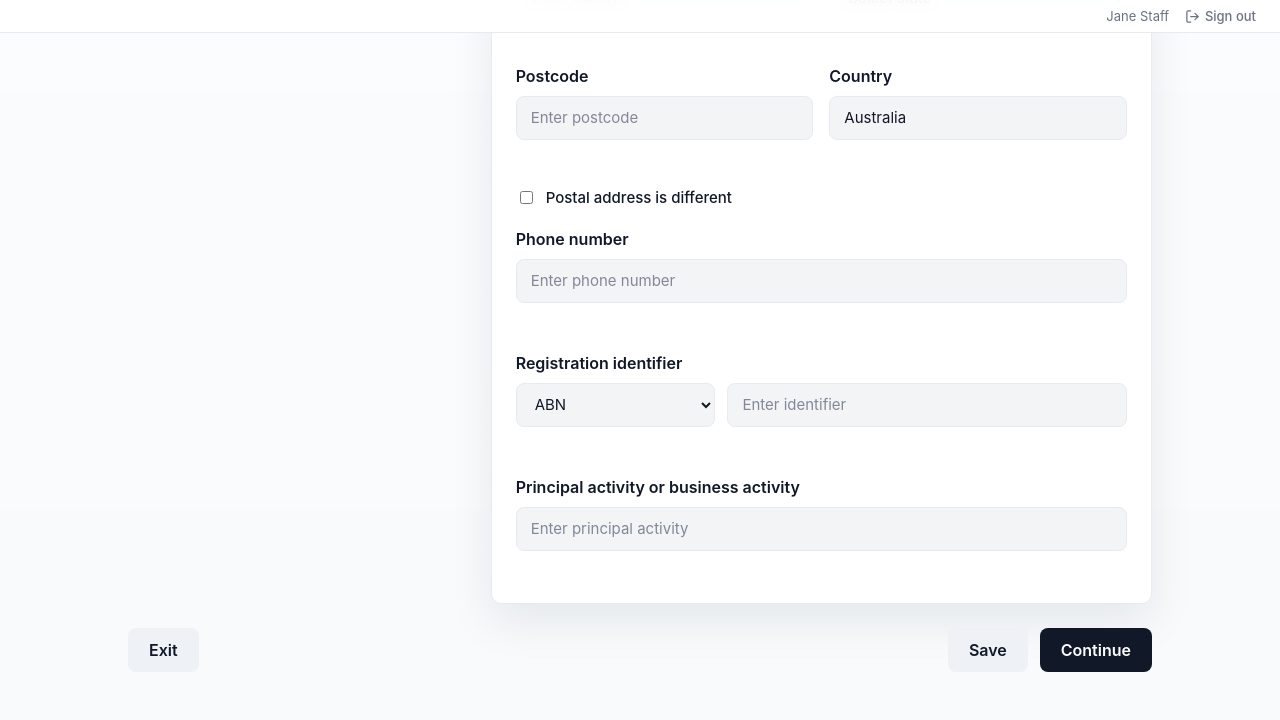
Scenario: PartyDetailsPage › company: shows validation errors when legalEntityName, legalForm, phone, registrationId, or activity are empty
(page scrolled)
What coordinates should you click on to do the following:
click the button "Save"
I would click on:
 (988, 650)
Its box is [948,628,1028,672].
(page scrolled)
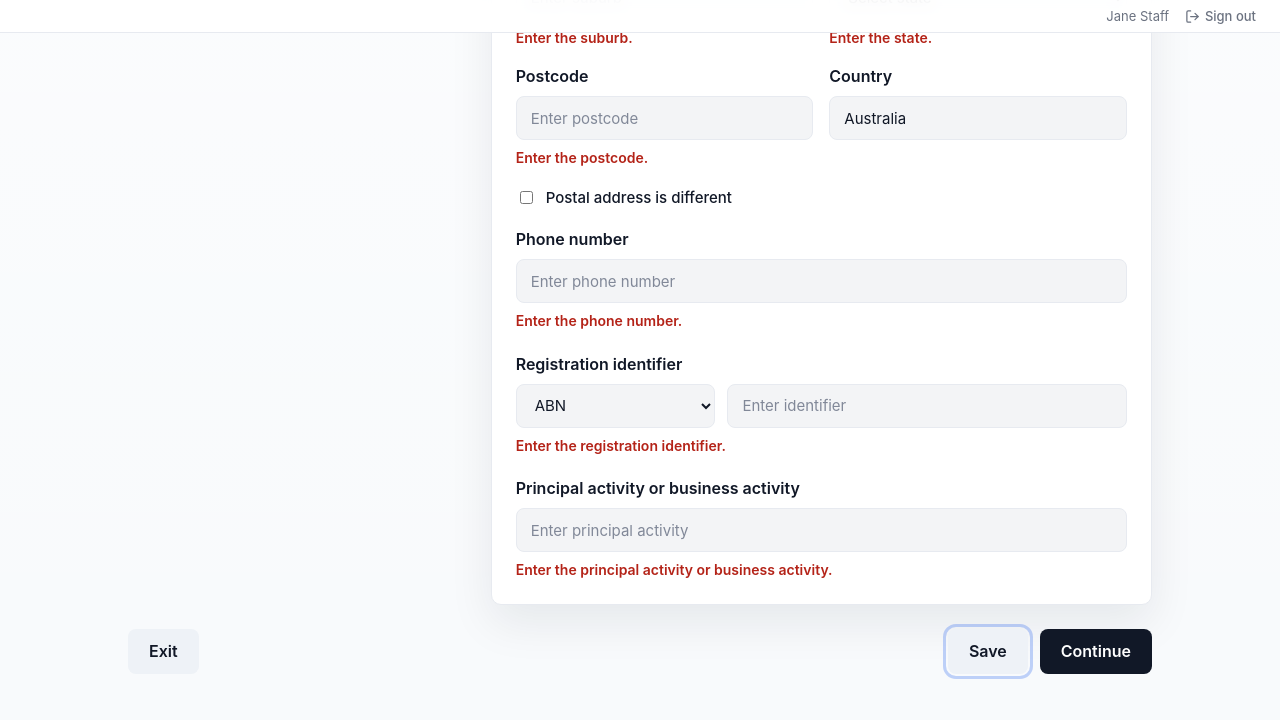
Result: the text "Enter the phone number." is shown at [516,312,682,329]
Result: the text "Enter the registration identifier." is shown at [516,437,726,454]
Result: the text "Enter the principal activity or business activity." is shown at [516,561,833,578]
